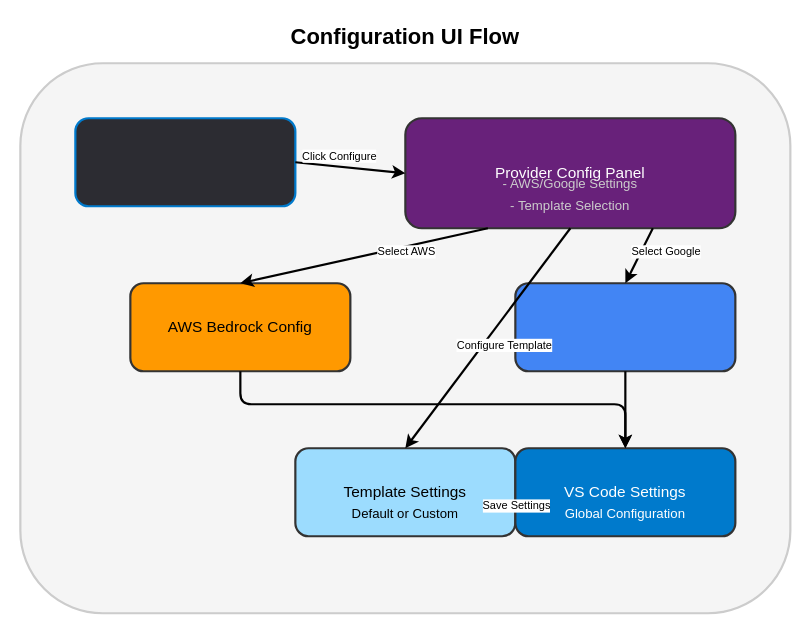
Image size: 810x633. Some labels were removed from this diagram. Here are the shapes that lost their labels. From the top down, the centre of each, then its label:
At point 185,162: "VS Code Sidebar".
At point 625,327: "Google Gemini Config".
